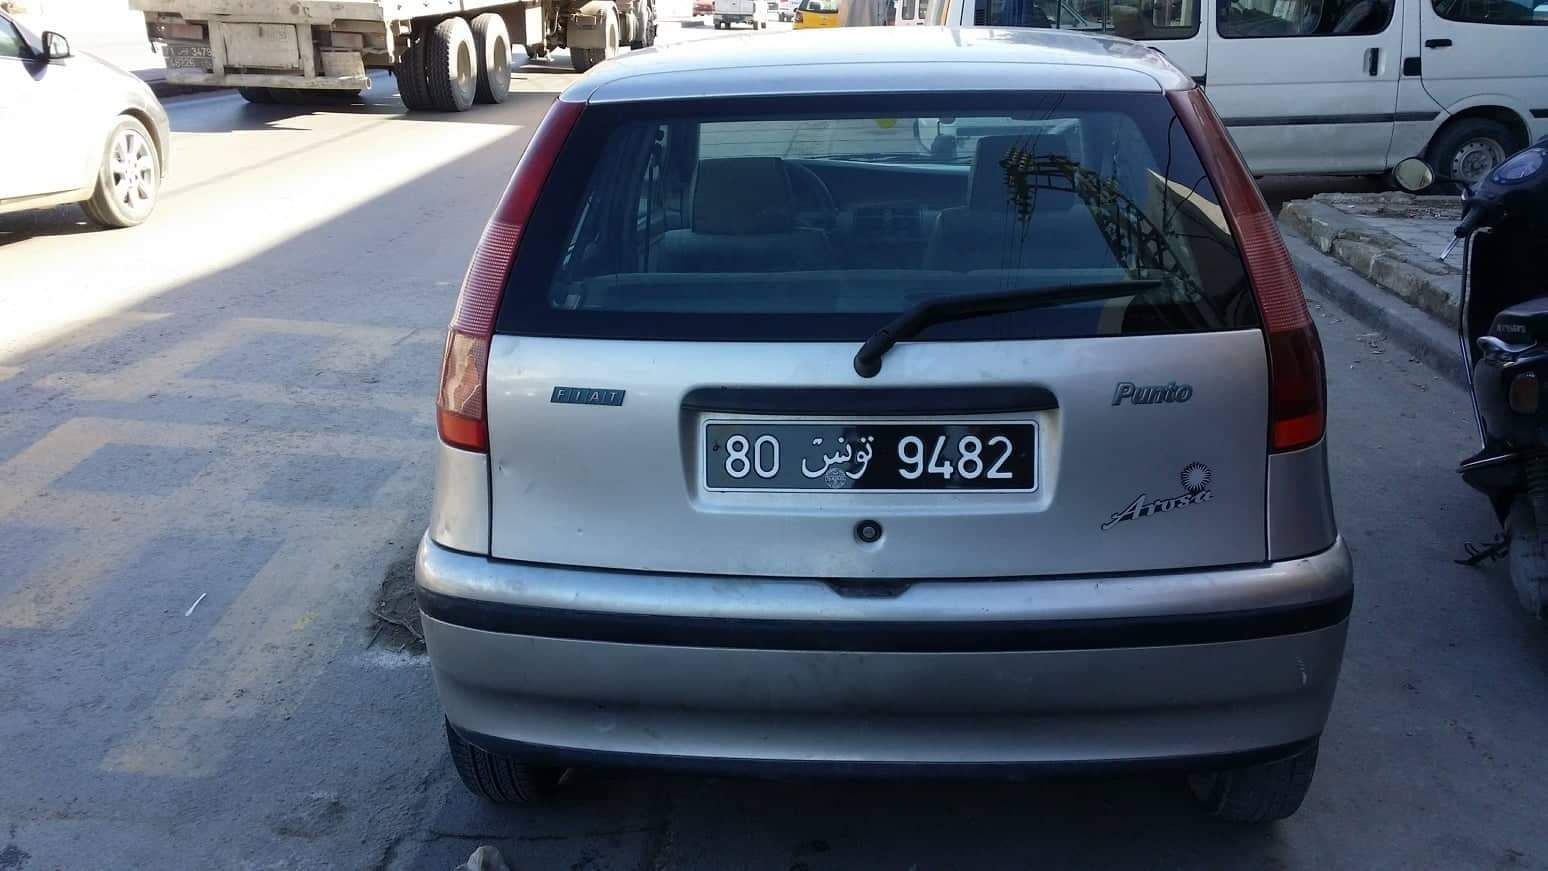LP: (702, 417, 1040, 495)
